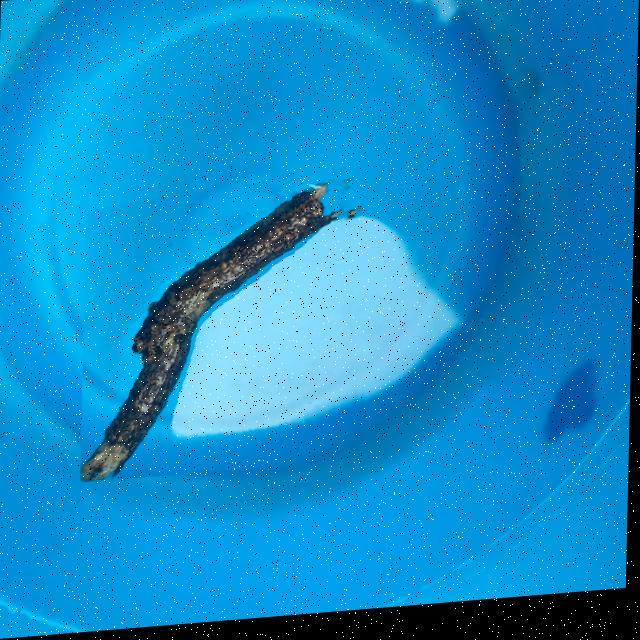litter: (81, 171, 369, 483)
